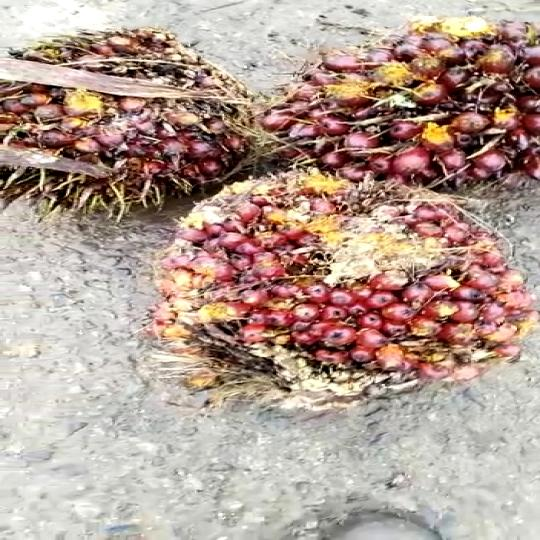masak: (151, 162, 540, 414), (259, 10, 540, 195), (0, 22, 262, 189)
